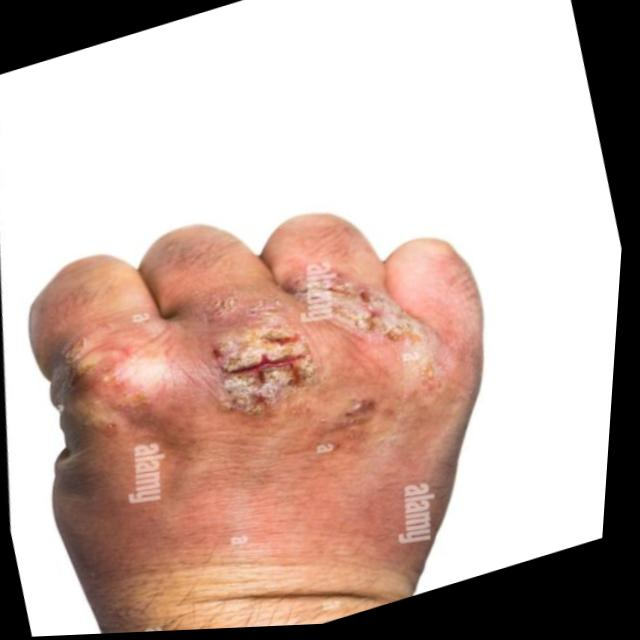Eczema: (61, 248, 463, 536)
